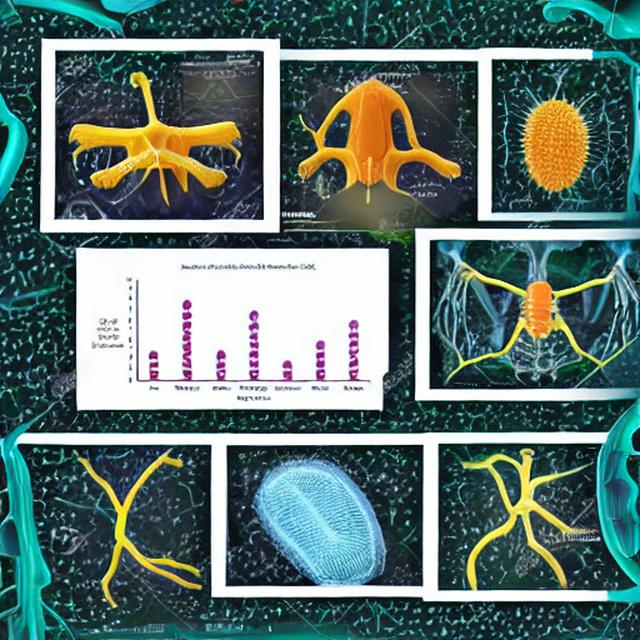Graph: (88, 259, 371, 406), (172, 69, 263, 122)
